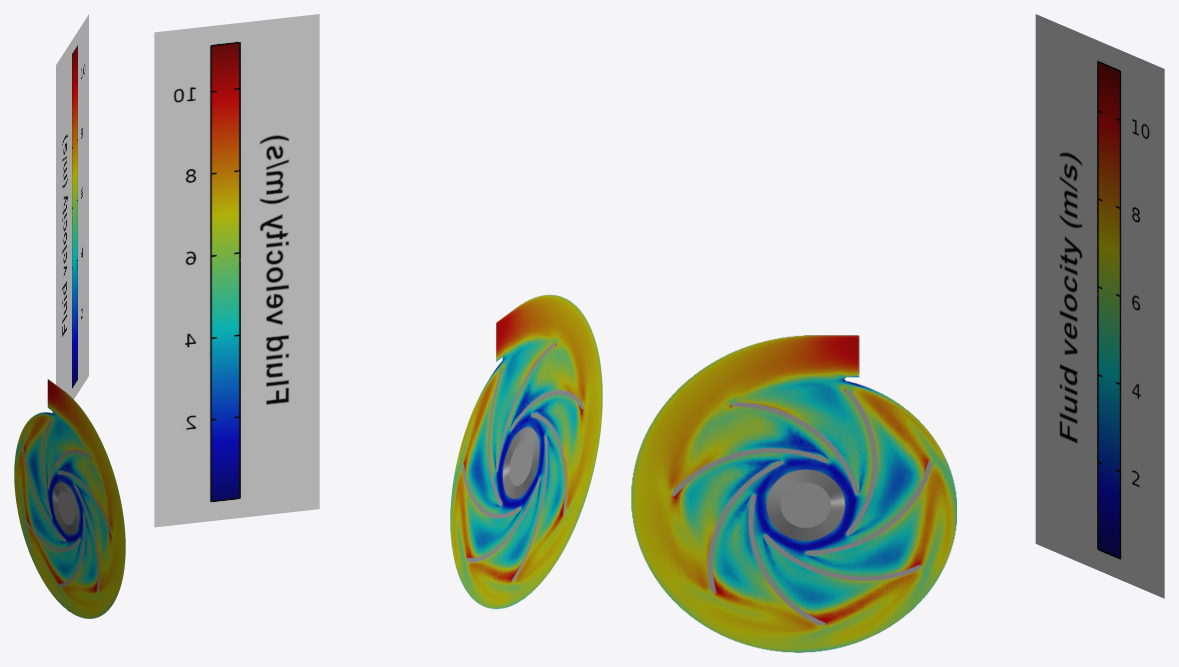
Rendered from Vlong03.glb.
3 renders of one model, left to right at view 1: azimuth 30°, elevation 25°; view 2: azimuth 150°, elevation 25°; view 3: azimuth 270°, elevation 25°, orthographic. The views are drawn at different scales.
Visible parts, largest first — view 1: velocity map v2, Vscale; view 2: Vscale, velocity map v2; view 3: velocity map v2, Vscale.
Boxes of the visible parts, x1,y1,x2,y2 form: velocity map v2: (14,379,125,618); Vscale: (56,14,88,399); Vscale: (154,14,319,527); velocity map v2: (450,294,602,609); velocity map v2: (631,335,956,652); Vscale: (1035,14,1164,598).
Size of the model in its own units: 0.1804 by 0.5564 by 0.3908.
Materials: 2 (2 with a texture image).
